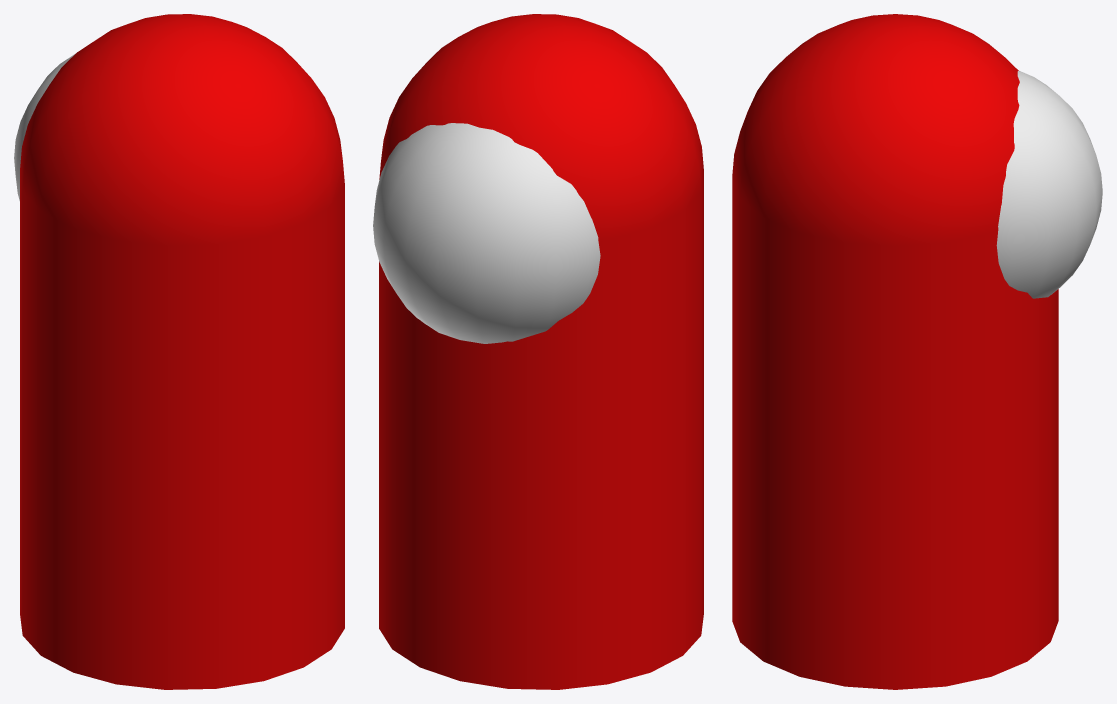
File: Player02.fbx
3 renders of one model, left to right at view 1: azimuth 30°, elevation 25°; view 2: azimuth 150°, elevation 25°; view 3: azimuth 270°, elevation 25°, orthographic.
Visible parts, largest first — view 1: pSphere3; view 2: pSphere3; view 3: pSphere3.
Boxes of the visible parts, x1=… form: pSphere3: x1=14, y1=14, x2=344, y2=689; pSphere3: x1=373, y1=14, x2=703, y2=689; pSphere3: x1=732, y1=14, x2=1102, y2=689.
Size of the model in its own units: 0.5 by 1 by 0.5676.
